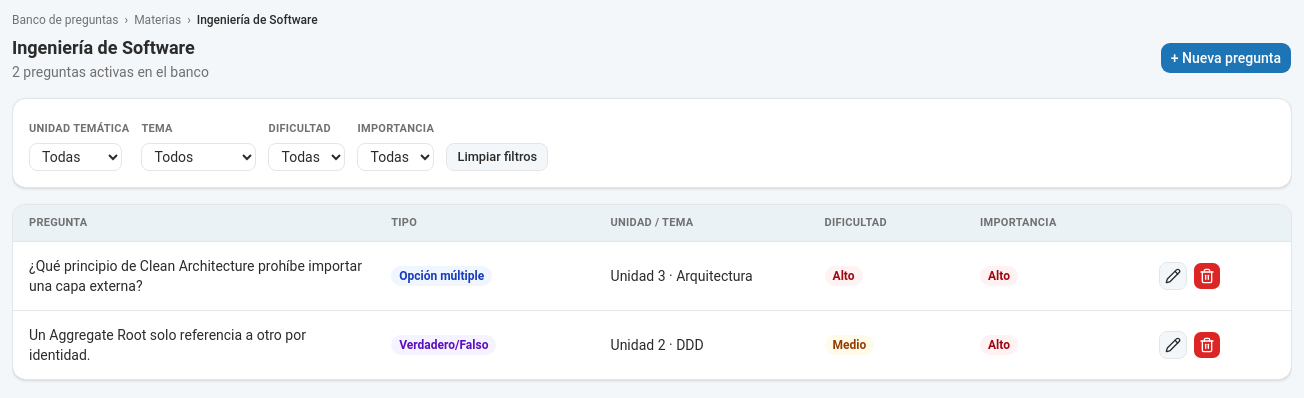
Banco › 'Limpiar filtros' vuelve a mostrar todas las preguntas activas
expect the text "¿Qué principio de Clean Architecture" is shown: met, box [29,258,362,294]
Select "Alto" in the dropdown labelled "Dificultad". click: [307, 157]
box: [268,143,346,171]
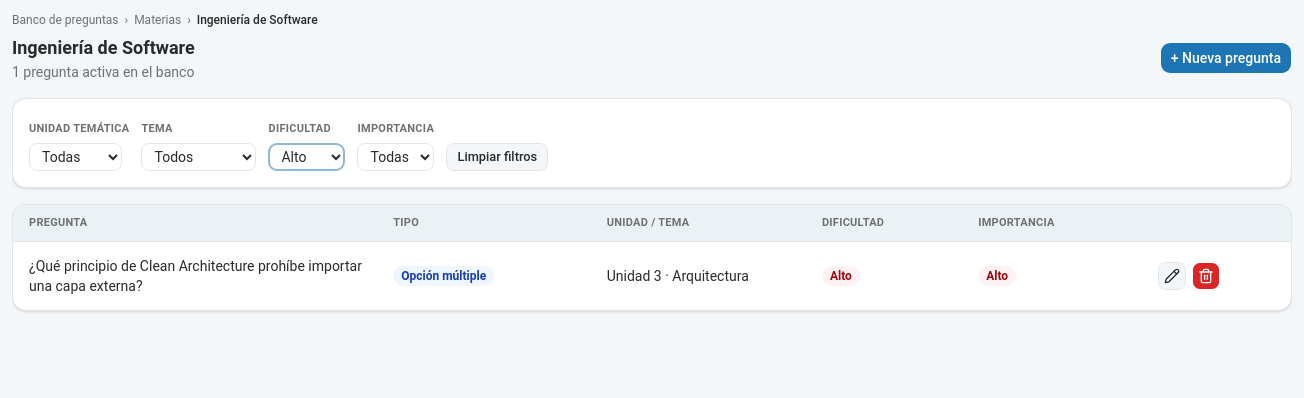
expect the text "1 pregunta activa en el banco" is shown: met, box [12,62,195,82]
Click the button "Limpiar filtros". click: [497, 157]
box: [446,143,548,171]
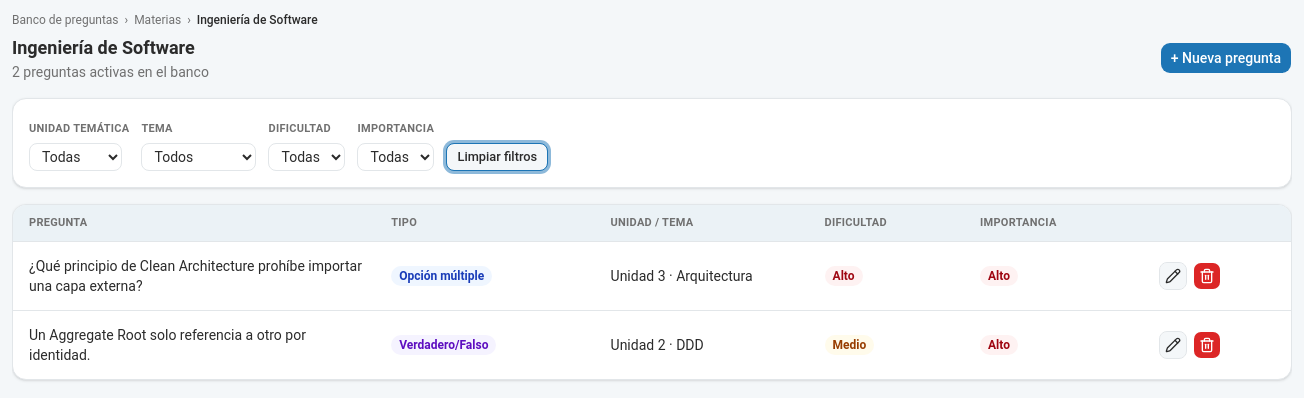
expect the text "2 preguntas activas en el banco" is shown: met, box [12,62,209,82]
